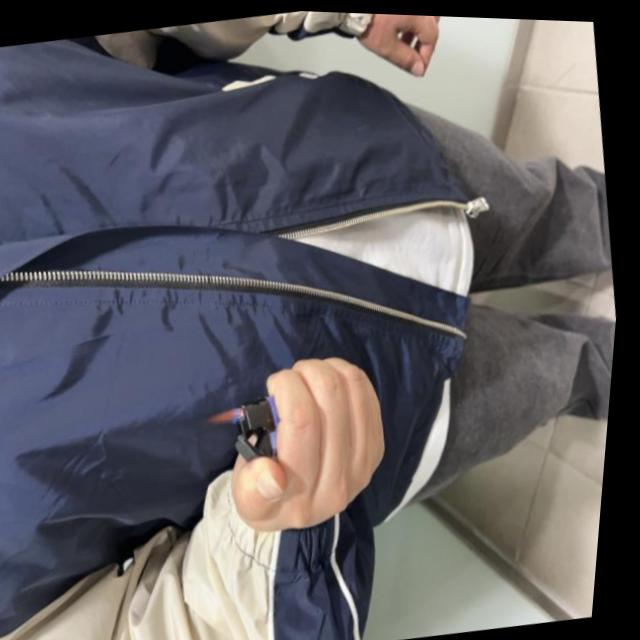Fire: (213, 400, 256, 427)
